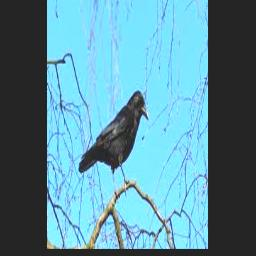Crow: (79, 89, 149, 196)
